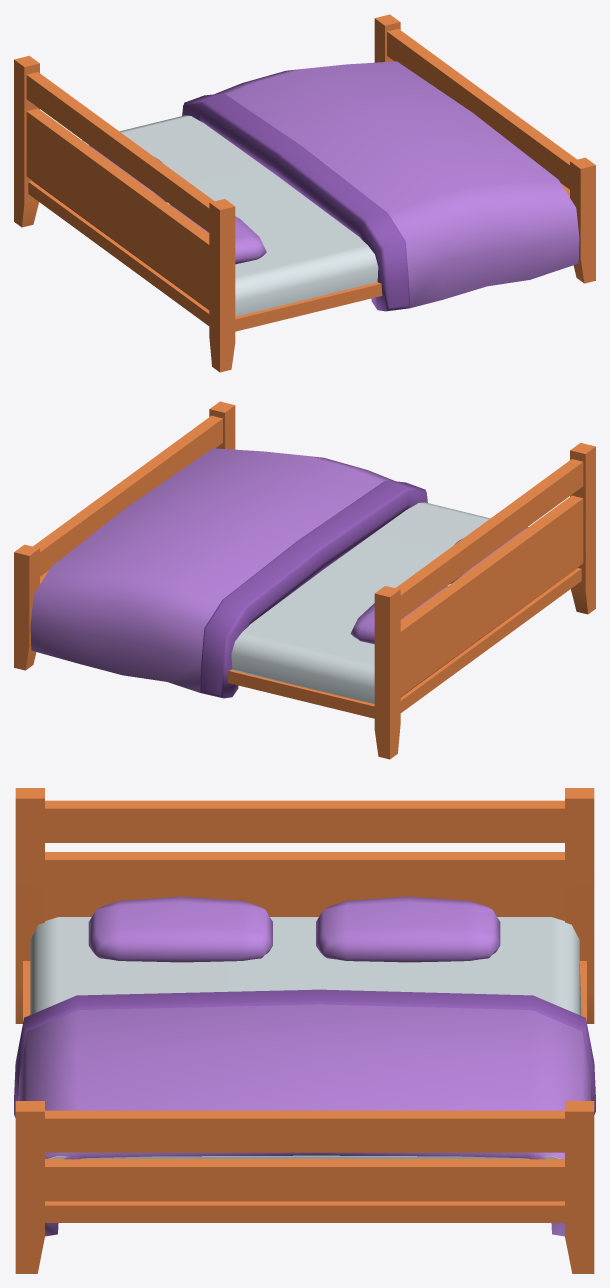
Rendered from Mother Bed .fbx.
The picture shows the model from 3 angles, top to bottom: view 1: azimuth 30°, elevation 25°; view 2: azimuth 150°, elevation 25°; view 3: azimuth 270°, elevation 25°; orthographic projection. The views are drawn at different scales.
Visible parts, largest first — view 1: wooden_simple_bed_wooden_simple_bed_mat_0.001; view 2: wooden_simple_bed_wooden_simple_bed_mat_0.001; view 3: wooden_simple_bed_wooden_simple_bed_mat_0.001.
Part boxes in pixels (box(x1,y1,x2,y2)): wooden_simple_bed_wooden_simple_bed_mat_0.001: box(14, 14, 595, 372); wooden_simple_bed_wooden_simple_bed_mat_0.001: box(14, 401, 595, 759); wooden_simple_bed_wooden_simple_bed_mat_0.001: box(14, 788, 595, 1273).
Bounding box in the file's own units: 394 × 162 × 376.
1 material, 1 textured.
